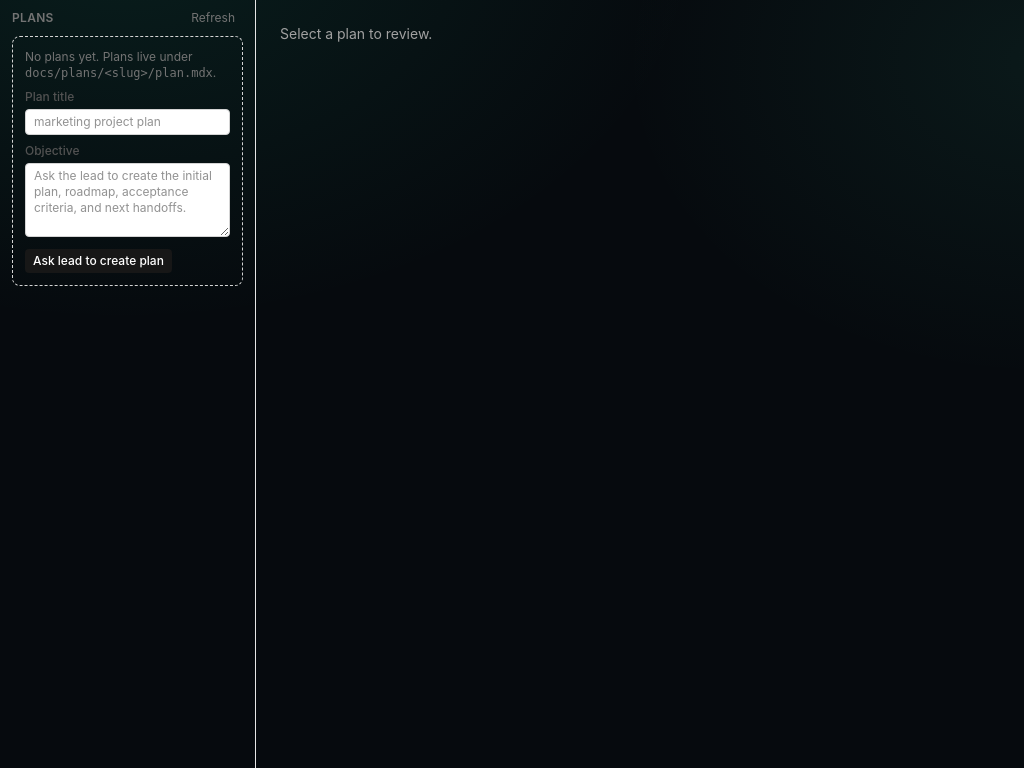
Test: PlanView › creates a lead handoff when an empty project needs its first plan
Expected: the element with test id "plan-bootstrap" is shown, [12,36,243,286]
Type "Marketing plan" into the field labelled "Plan title".
click(128, 122); type("Marketing plan")  # box [25,109,230,135]
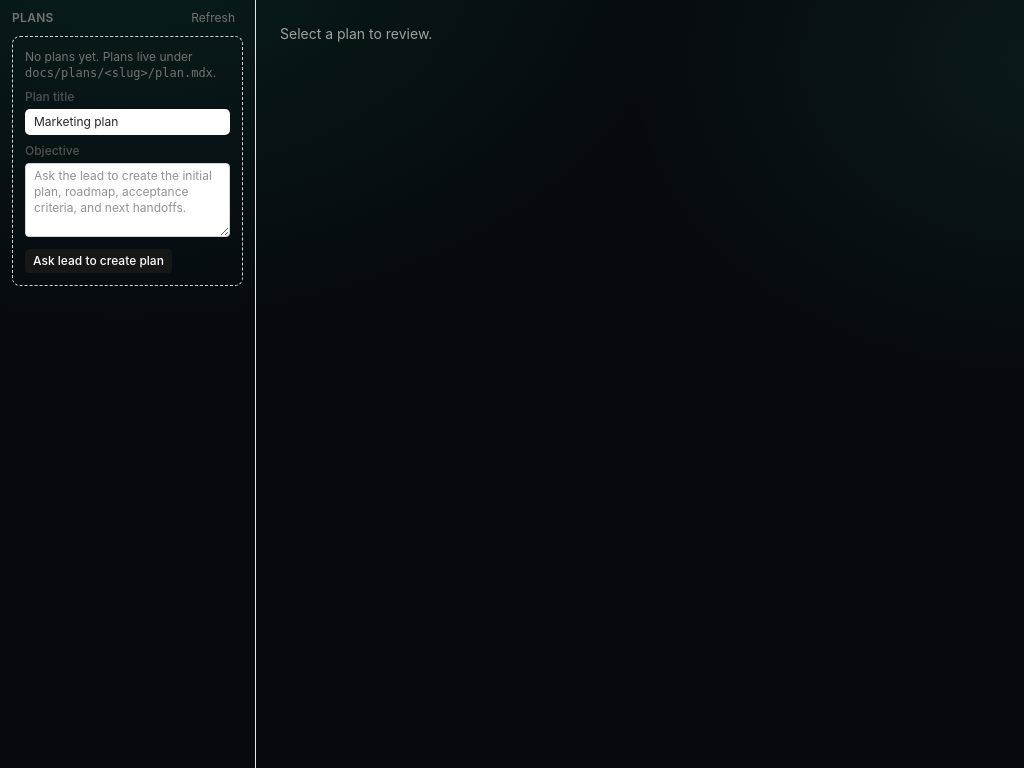
Click the button "Ask lead to create plan".
click(98, 261)  # box [25,249,172,273]
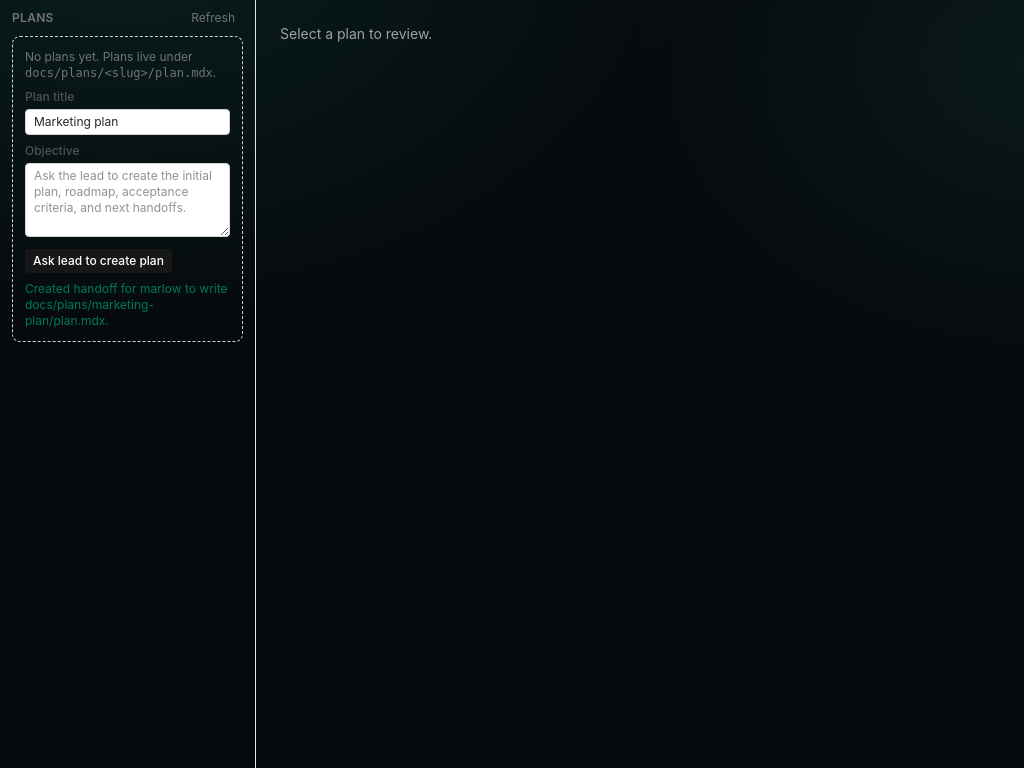
Now the text "Created handoff for marlow" shows "docs/plans/marketing-plan/plan.mdx", box [25,281,228,328]
